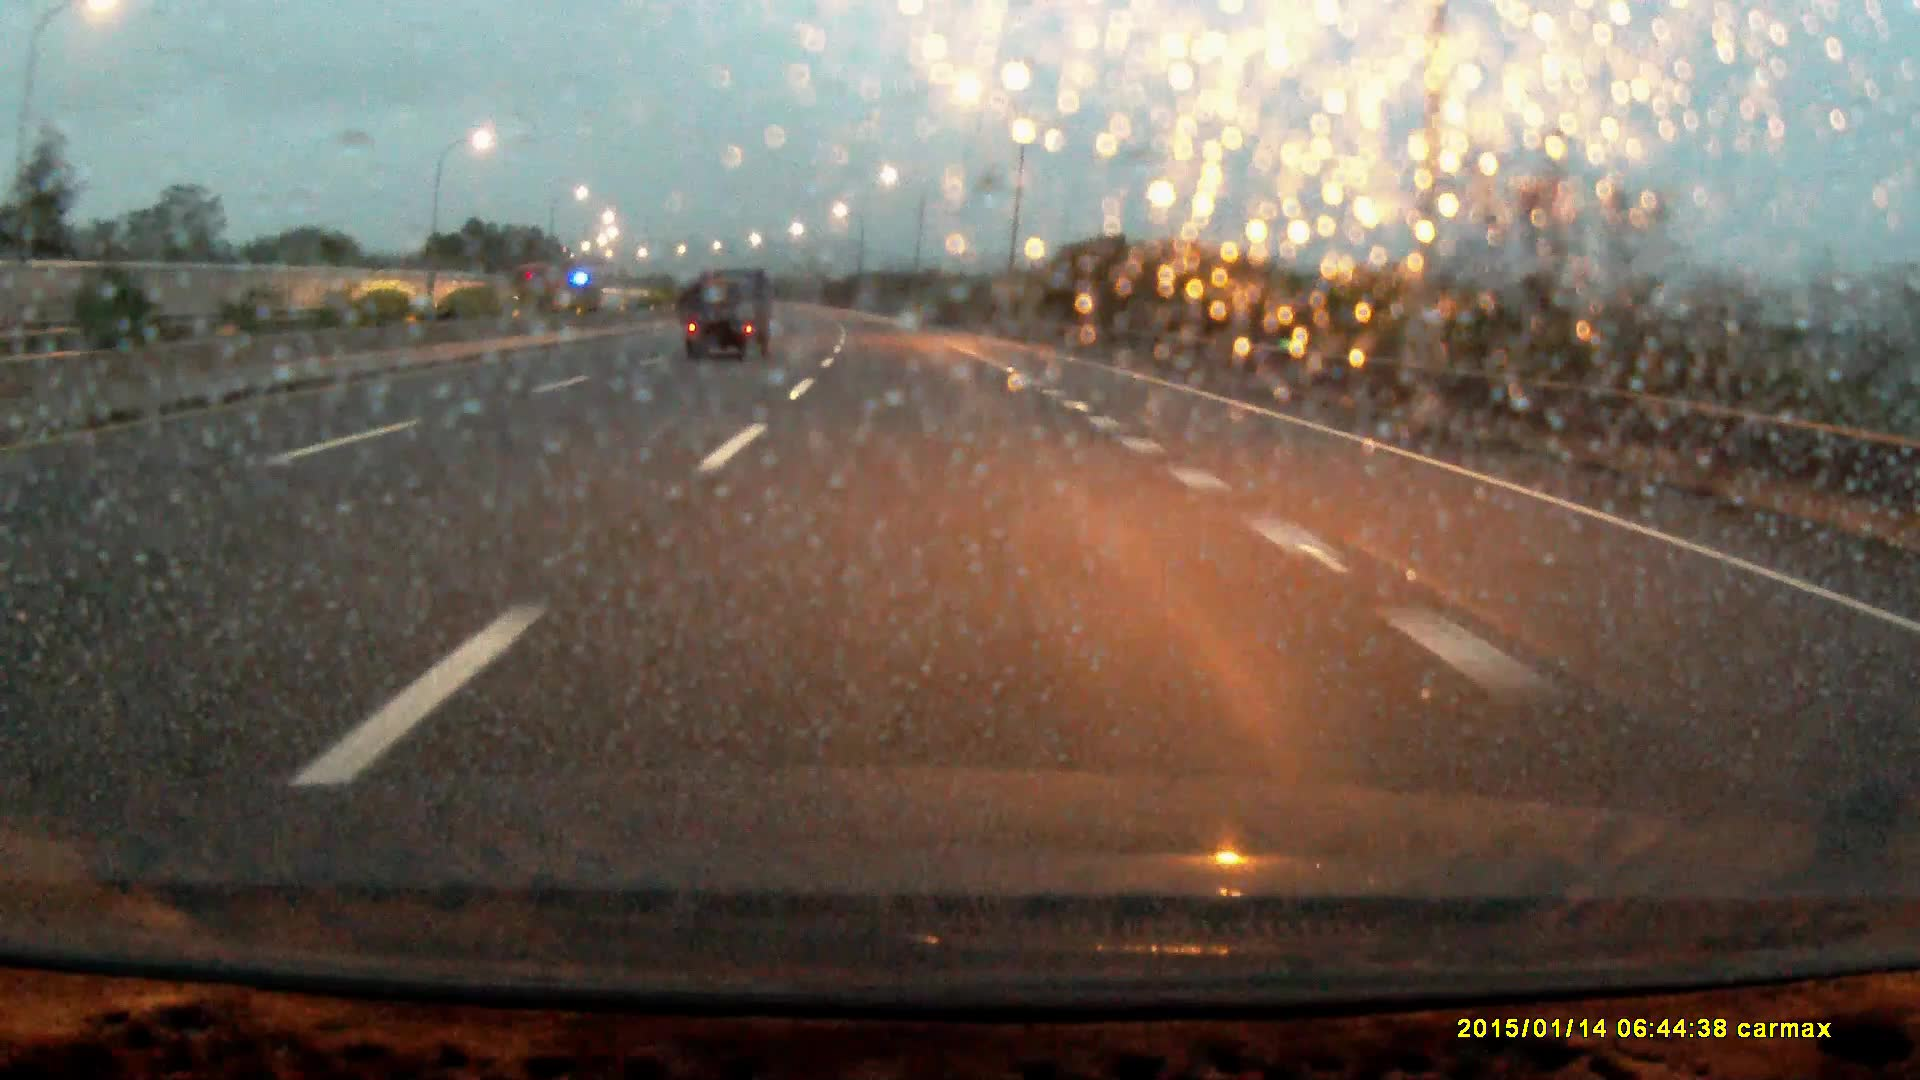vehicle: (686, 265, 770, 361), (508, 262, 564, 309)
